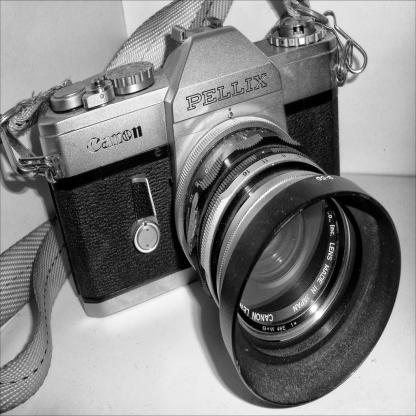Camera: (33, 10, 402, 408)
